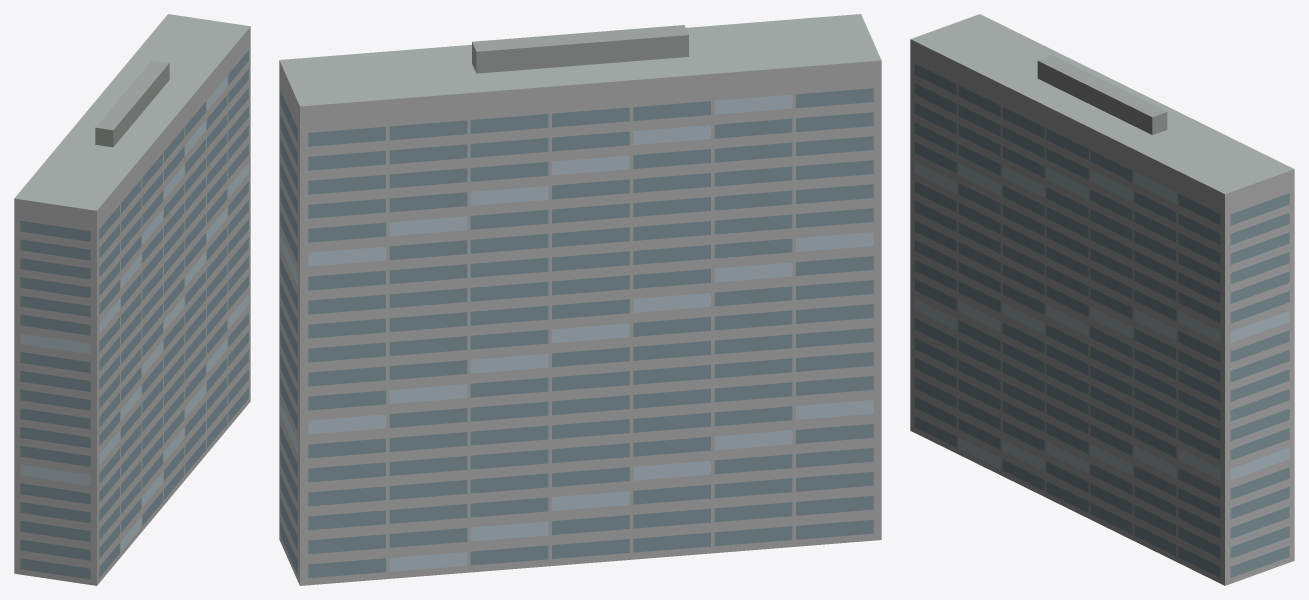
File: apt-a13991015.glb
3 renders of one model, left to right at view 1: azimuth 30°, elevation 25°; view 2: azimuth 150°, elevation 25°; view 3: azimuth 270°, elevation 25°, orthographic. The views are drawn at different scales.
Parts seen in each view (by area): view 1: apt-a13991015; view 2: apt-a13991015; view 3: apt-a13991015.
Part boxes in pixels (x1,y1,x2,y2): apt-a13991015: (14, 14, 250, 585); apt-a13991015: (279, 14, 881, 585); apt-a13991015: (910, 14, 1294, 585).
Bounding box in the file's own units: 51.93 × 55 × 46.74.
